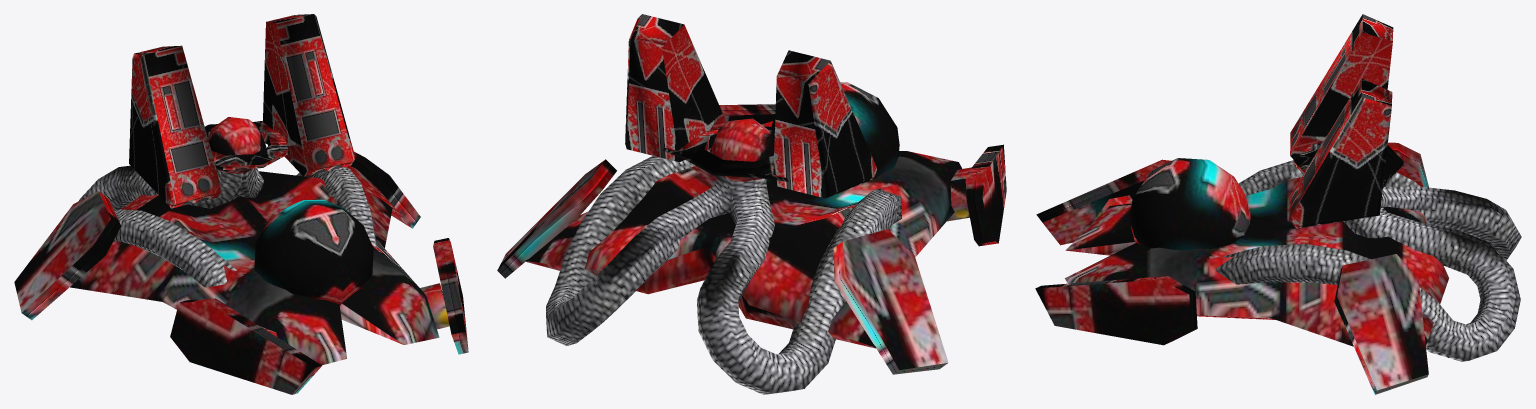
Rendered from Cottus1.obj.
3 views of the same model, side by side, from view 1: azimuth 30°, elevation 25°; view 2: azimuth 150°, elevation 25°; view 3: azimuth 270°, elevation 25° (orthographic). The views are drawn at different scales.
Visible parts, largest first — view 1: cottus_body03, cottus_rocket_launcher; view 2: cottus_body03, cottus_rocket_launcher; view 3: cottus_body03, cottus_rocket_launcher.
Boxes of the visible parts, <box> form: cottus_body03: <box>14,117,468,394</box>; cottus_rocket_launcher: <box>129,14,355,208</box>; cottus_body03: <box>497,82,1006,394</box>; cottus_rocket_launcher: <box>625,14,877,198</box>; cottus_body03: <box>1035,142,1521,394</box>; cottus_rocket_launcher: <box>1289,14,1403,228</box>.
Bounding box in the file's own units: 75.59 × 46.32 × 79.71.
